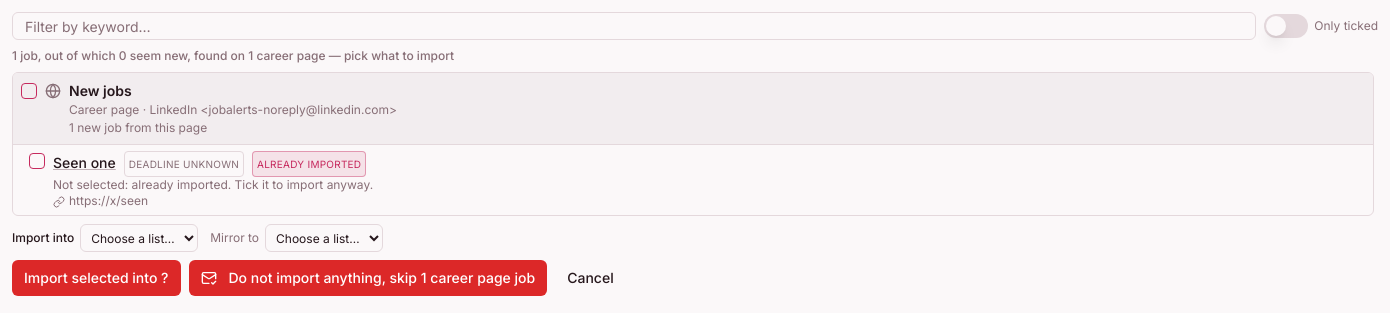
SavedSearchPicker › says so when Only ticked leaves nothing to show
expect the link "Seen one" is shown: met, box top-left (53, 153), bottom-right (116, 173)
Click the switch named "Show only ticked ads". click: (1286, 26)
box: top-left (1264, 14), bottom-right (1308, 38)
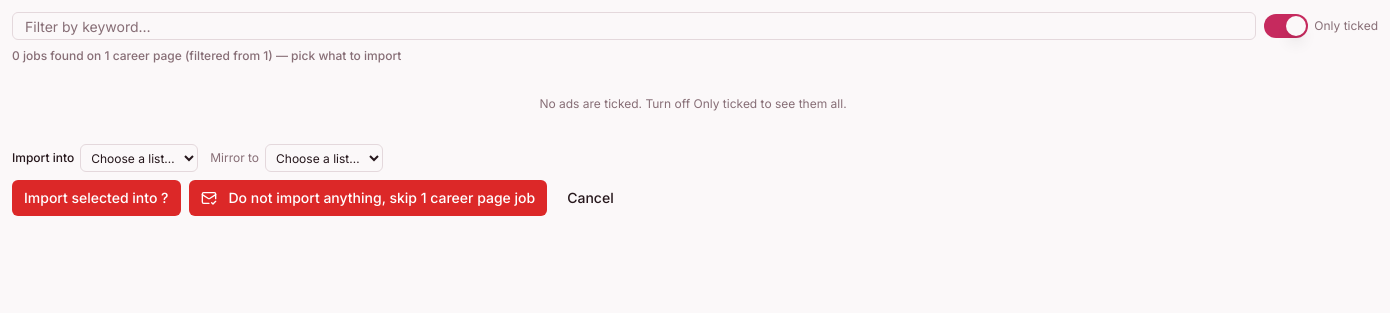
expect the text "No ads are ticked. Turn off Only ticked to see them all." is shown: met, box top-left (539, 96), bottom-right (847, 111)
